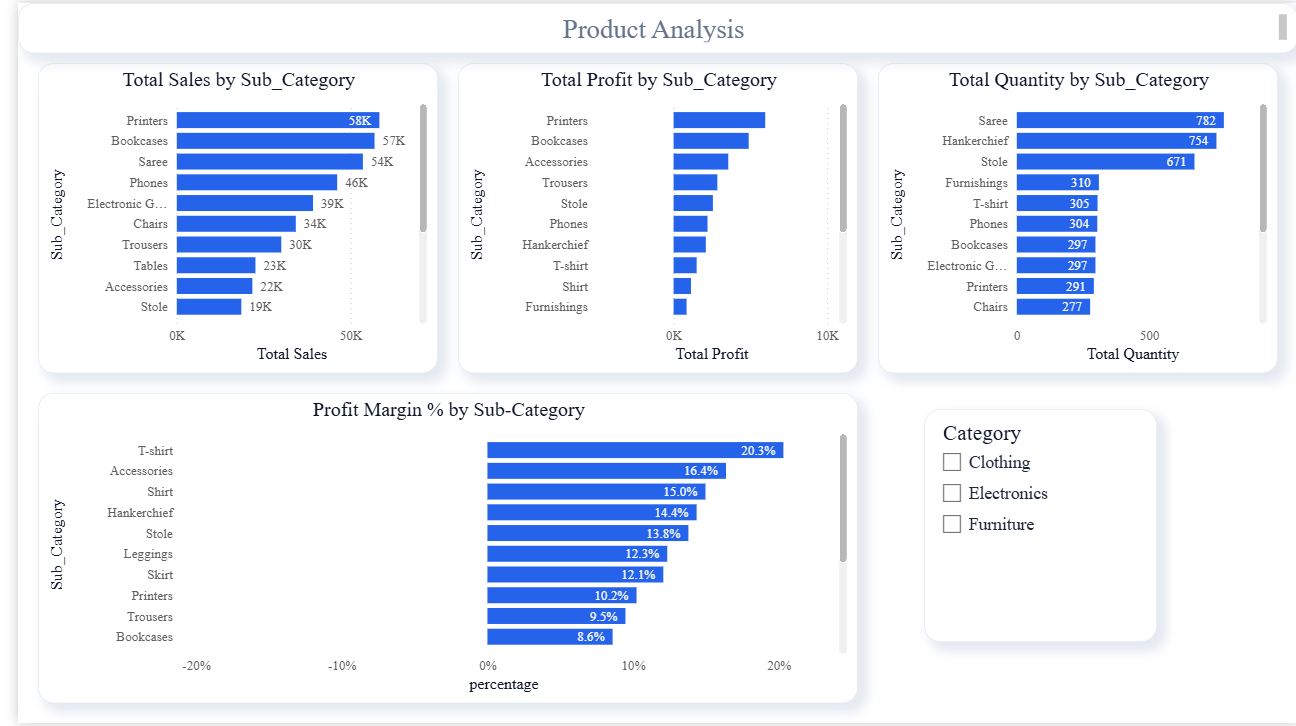

The dashboard page shown, as its layout file describes it:
{"tool":"powerbi","page":{"name":"Product Analysis","canvas":[1280,720],"ordinal":3},"visuals":[{"type":"clusteredBarChart","fields":{"Category":["Order_Details.Sub_Category"],"Y":["Order_Details.Total Sales"]},"box":[20,60,400,310],"z":0},{"type":"clusteredBarChart","title":"Profit Margin % by Sub-Category","fields":{"Category":["Order_Details.Sub_Category"],"Y":["Order_Details.Subcat Profit Margin %"]},"box":[20,390,820,310],"z":1000},{"type":"slicer","fields":{"Values":["Order_Details.Category"]},"box":[906.2,406.2,232.5,232.5],"z":2000},{"type":"clusteredBarChart","fields":{"Y":["Order_Details.Total Profit"],"Category":["Order_Details.Sub_Category"]},"box":[440,60,400,310],"z":3000},{"type":"clusteredBarChart","fields":{"Y":["Order_Details.Total Quantity"],"Category":["Order_Details.Sub_Category"]},"box":[860,60,400,310],"z":4000},{"type":"textbox","box":[0,0,1280,50],"z":5000}]}

Visuals, with their boxes in screenshot pixels (x1, y1, x2, y2), scaled from the page's 1280x720 canvas onto the 1296x726 screenshot:
clusteredBarChart - Order_Details.Sub_Category x Order_Details.Total Sales: region(20, 60, 425, 373)
"Profit Margin % by Sub-Category" clusteredBarChart: region(20, 393, 850, 706)
slicer - Order_Details.Category: region(918, 410, 1153, 644)
clusteredBarChart - Order_Details.Total Profit x Order_Details.Sub_Category: region(446, 60, 850, 373)
clusteredBarChart - Order_Details.Total Quantity x Order_Details.Sub_Category: region(871, 60, 1276, 373)
textbox: region(0, 0, 1295, 50)
